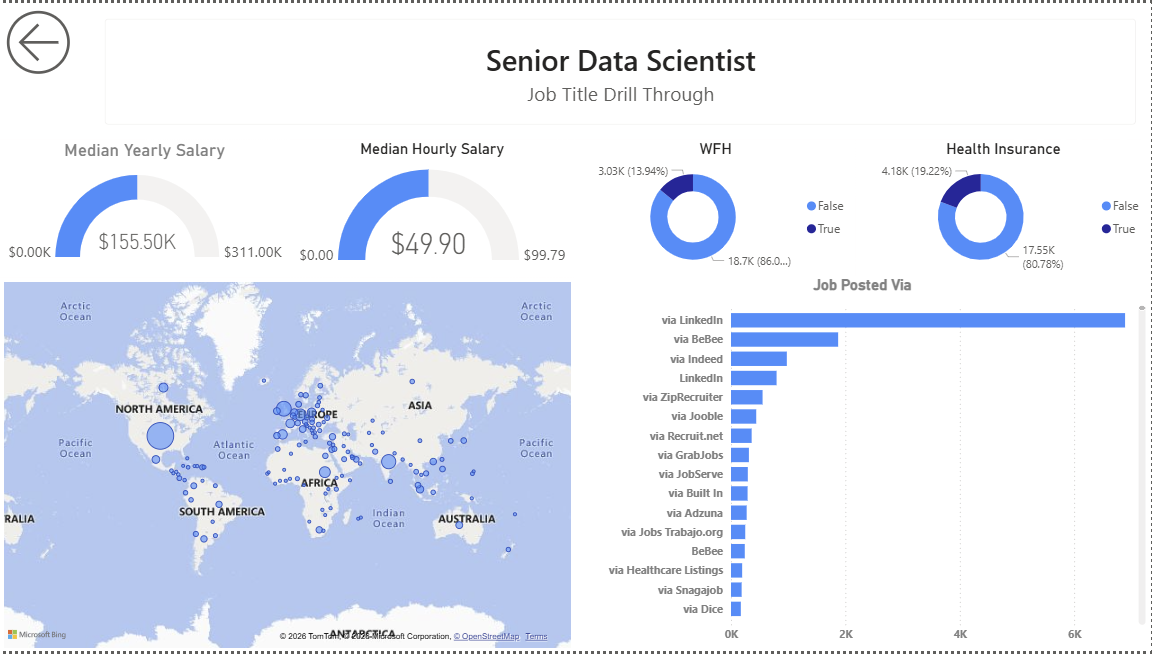

The dashboard page shown, as its layout file describes it:
{"tool":"powerbi","page":{"name":"Jobs Title Drill Through","canvas":[1280,720],"ordinal":1},"visuals":[{"type":"cardVisual","fields":{"Data":["Min(job_postings_flat.job_title_short)1"]},"box":[100.4,0,1180.4,152.2],"z":0},{"type":"actionButton","box":[0,0,100.4,87.4],"z":1000},{"type":"gauge","fields":{"Y":["Median(job_postings_flat.salary_year_avg)"]},"box":[0,152.2,323.8,152.2],"z":2000},{"type":"gauge","fields":{"Y":["Median(job_postings_flat.salary_hour_avg)"]},"box":[323.8,152.2,315.7,152.2],"z":3000},{"type":"donutChart","title":"WFH","fields":{"Y":["CountNonNull(job_postings_flat.job_work_from_home)"],"Category":["job_postings_flat.job_work_from_home"]},"box":[639.6,152.2,312.5,152.2],"z":4000},{"type":"donutChart","title":"Health Insurance","fields":{"Y":["CountNonNull(job_postings_flat.job_health_insurance)"],"Category":["job_postings_flat.job_health_insurance"]},"box":[952.1,152.2,328.7,152.2],"z":5000},{"type":"map","fields":{"Size":["CountNonNull(job_postings_flat.job_title_short)"],"Category":["job_postings_flat.job_country"]},"box":[0,304.4,639.6,416.1],"z":6000},{"type":"barChart","title":"Job Posted Via","fields":{"Y":["CountNonNull(job_postings_flat.job_title_short)"],"Category":["job_postings_flat.job_via"]},"box":[640.5,304,638.9,416.2],"z":7000}]}

Visuals, with their boxes in screenshot pixels (x1, y1, x2, y2), scaled from the page's 1280x720 canvas onto the 1152x657 screenshot:
cardVisual - Min(job_postings_flat.job_title_short)1: l=90, t=0, r=1151, b=139
actionButton: l=0, t=0, r=90, b=80
gauge - Median(job_postings_flat.salary_year_avg): l=0, t=139, r=291, b=278
gauge - Median(job_postings_flat.salary_hour_avg): l=291, t=139, r=576, b=278
"WFH" donutChart: l=576, t=139, r=857, b=278
"Health Insurance" donutChart: l=857, t=139, r=1151, b=278
map - CountNonNull(job_postings_flat.job_title_short) x job_postings_flat.job_country: l=0, t=278, r=576, b=656
"Job Posted Via" barChart: l=576, t=277, r=1151, b=656
